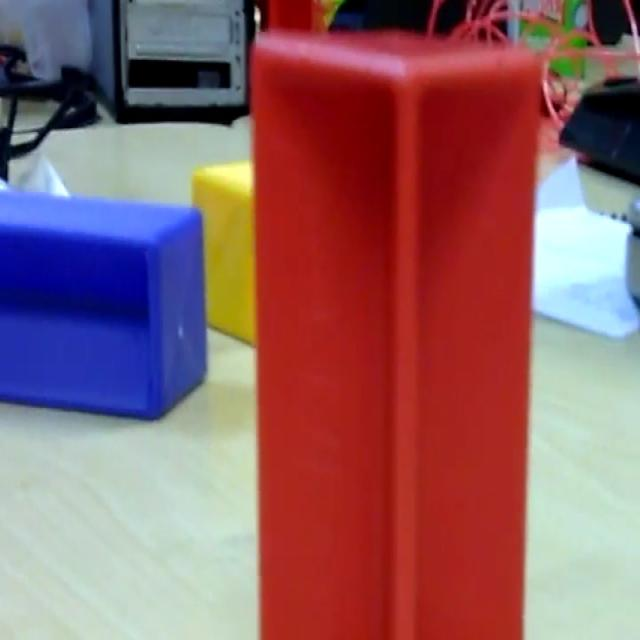blue_block: (0, 179, 208, 421)
red_block: (249, 27, 542, 636)
yellow_block: (190, 156, 257, 347)
